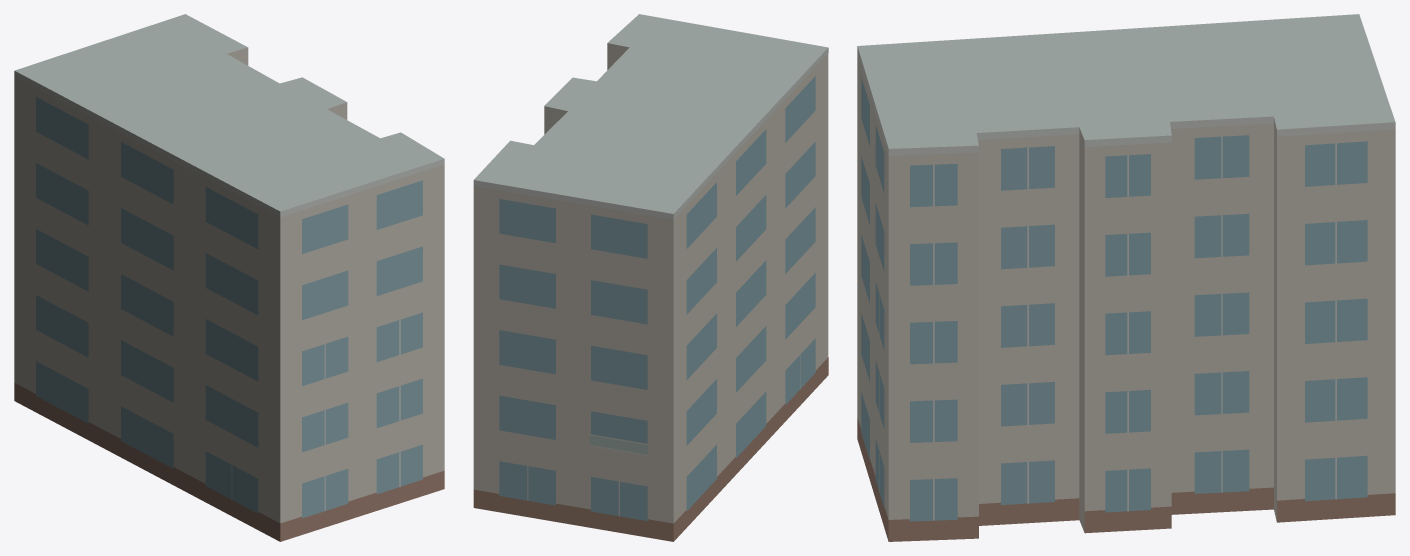
Rendered from survey-upis-32531909.glb.
The picture shows the model from 3 angles, left to right: view 1: azimuth 30°, elevation 25°; view 2: azimuth 150°, elevation 25°; view 3: azimuth 270°, elevation 25°; orthographic projection. The views are drawn at different scales.
Visible parts, largest first — view 1: survey-upis-32531909.tmp; view 2: survey-upis-32531909.tmp; view 3: survey-upis-32531909.tmp.
Boxes of the visible parts, left/top/right/bottom form: survey-upis-32531909.tmp: left=14, top=14, right=444, bottom=541; survey-upis-32531909.tmp: left=473, top=14, right=828, bottom=541; survey-upis-32531909.tmp: left=857, top=14, right=1395, bottom=541.
Size of the model in its own units: 10.17 by 13.8 by 17.14.
